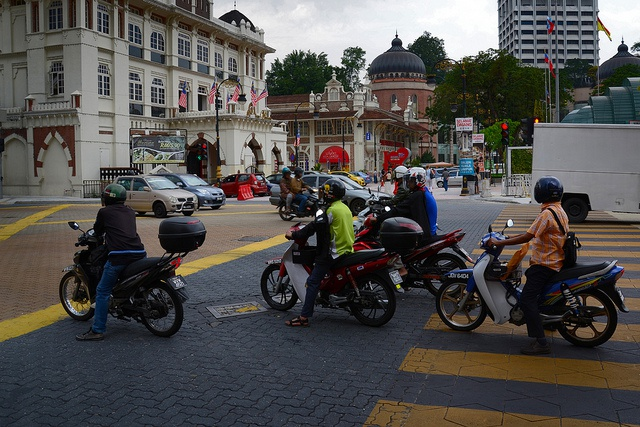non-vehicle: (435, 217, 629, 348), (60, 219, 209, 338), (261, 222, 408, 326), (352, 217, 475, 295), (276, 185, 325, 220), (356, 183, 382, 216)
